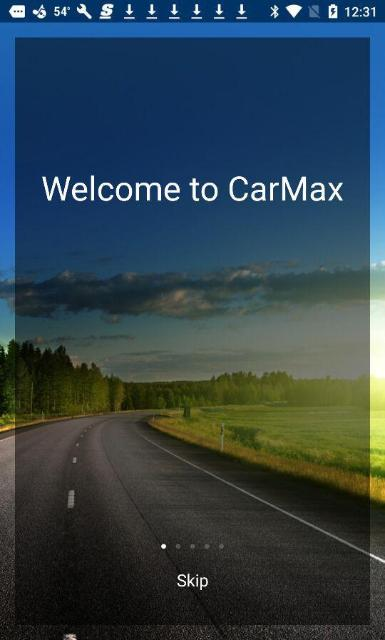BackgroundImage: (1, 24, 384, 638)
PageIndicator: (160, 542, 224, 550)
Text: (40, 174, 344, 202), (176, 572, 208, 590)
UpperTaskBar: (0, 0, 384, 22)
